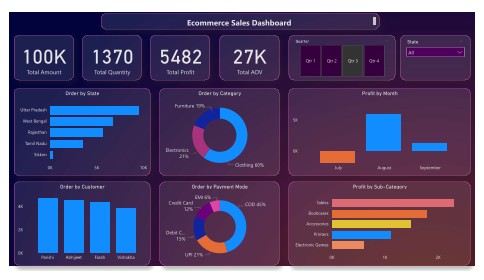

The dashboard page shown, as its layout file describes it:
{"tool":"powerbi","page":{"name":"Page 1","canvas":[1280,720],"ordinal":0},"visuals":[{"type":"textbox","box":[253,12,764,45],"z":0},{"type":"columnChart","title":"Profit by Month","fields":{"Y":["Sum(Details.Profit)"],"Category":["Orders.Order Date.Variation.Date Hierarchy.Month"]},"box":[768,218,498,240],"z":1000},{"type":"barChart","title":"Profit by Sub-Category","fields":{"Category":["Details.Sub-Category"],"Y":["Sum(Details.Profit)"]},"box":[768,474,498,230],"z":2000},{"type":"donutChart","title":"Order by Category","fields":{"Category":["Details.Category"],"Y":["Sum(Details.Quantity)"]},"box":[414,218,328,240],"z":3000},{"type":"donutChart","title":"Order by Payment Mode","fields":{"Category":["Details.PaymentMode","Details.Category"],"Y":["Sum(Details.Quantity)"]},"box":[414,474,328,230],"z":4000},{"type":"card","fields":{"Values":["Sum(Details.Amount)"]},"box":[14,72,164,124],"z":5000},{"type":"card","fields":{"Values":["Sum(Details.Quantity)"]},"box":[202,72,162,124],"z":6000},{"type":"card","fields":{"Values":["Sum(Details.Profit)"]},"box":[388,72,164,124],"z":7000},{"type":"card","fields":{"Values":["Sum(Details.AOV)"]},"box":[578,72,164,124],"z":8000},{"type":"barChart","title":"Order by State","fields":{"Category":["Orders.State"],"Y":["Sum(Details.Amount)"]},"box":[14,218,374,240],"z":9000},{"type":"columnChart","title":"Order by Customer","fields":{"Category":["Orders.CustomerName"],"Y":["Sum(Details.Amount)"]},"box":[14,474,374,230],"z":10000},{"type":"slicer","fields":{"Values":["Orders.Order Date.Variation.Date Hierarchy.Quarter"]},"box":[768,72,292,124],"z":11000},{"type":"slicer","fields":{"Values":["Orders.State"]},"box":[1074,72,192,124],"z":12000}]}

Visuals, with their boxes in screenshot pixels (x1, y1, x2, y2), scaled from the page's 1280x720 canvas onto the 484x280 screenshot:
textbox: 96, 5, 385, 22
"Profit by Month" columnChart: 290, 85, 479, 178
"Profit by Sub-Category" barChart: 290, 184, 479, 274
"Order by Category" donutChart: 157, 85, 281, 178
"Order by Payment Mode" donutChart: 157, 184, 281, 274
card - Sum(Details.Amount): 5, 28, 67, 76
card - Sum(Details.Quantity): 76, 28, 138, 76
card - Sum(Details.Profit): 147, 28, 209, 76
card - Sum(Details.AOV): 219, 28, 281, 76
"Order by State" barChart: 5, 85, 147, 178
"Order by Customer" columnChart: 5, 184, 147, 274
slicer - Orders.Order Date.Variation.Date Hierarchy.Quarter: 290, 28, 401, 76
slicer - Orders.State: 406, 28, 479, 76
